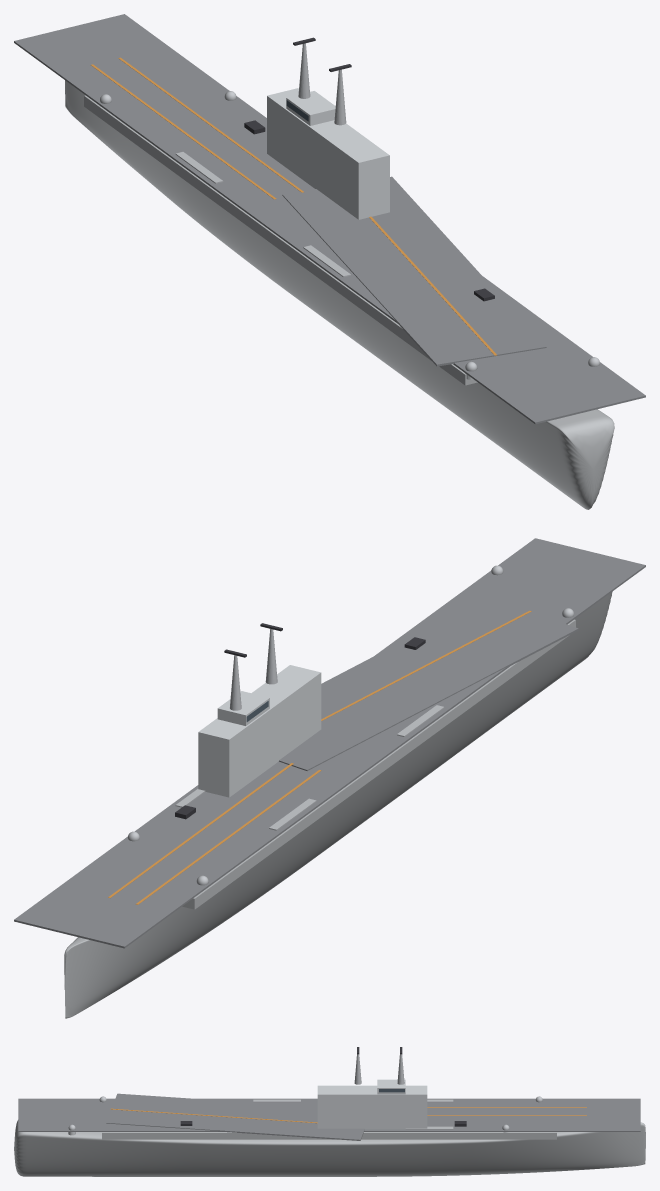
The model's file is ws-carrier-01.fbx.
3 views of the same model, one above another, from view 1: azimuth 30°, elevation 25°; view 2: azimuth 150°, elevation 25°; view 3: azimuth 270°, elevation 25° (orthographic). The views are drawn at different scales.
Parts seen in each view (by area): view 1: flight-deck, ws-carrier-01, angled-deck, island, sponson-p, island-bridge; view 2: flight-deck, ws-carrier-01, angled-deck, island, sponson-p, island-bridge; view 3: ws-carrier-01, flight-deck, angled-deck, island, sponson-s, island-bridge, landing-line.
Boxes of the visible parts, left/top/right/bottom form: flight-deck: left=14, top=14, right=645, bottom=424; ws-carrier-01: left=65, top=80, right=614, bottom=509; angled-deck: left=282, top=176, right=546, bottom=366; island: left=267, top=88, right=389, bottom=219; sponson-p: left=84, top=95, right=477, bottom=385; island-bridge: left=286, top=91, right=335, bottom=125; flight-deck: left=14, top=538, right=645, bottom=948; ws-carrier-01: left=64, top=591, right=612, bottom=1018; angled-deck: left=279, top=597, right=578, bottom=770; island: left=198, top=665, right=321, bottom=797; sponson-p: left=182, top=619, right=575, bottom=909; island-bridge: left=217, top=691, right=269, bottom=725; ws-carrier-01: left=14, top=1120, right=645, bottom=1176; flight-deck: left=18, top=1098, right=640, bottom=1131; angled-deck: left=106, top=1093, right=364, bottom=1140; island: left=317, top=1085, right=427, bottom=1129; sponson-s: left=102, top=1132, right=556, bottom=1139; island-bridge: left=377, top=1079, right=405, bottom=1094; landing-line: left=111, top=1108, right=317, bottom=1123.
Size of what is drawn, in the model's own units: 45.97 by 63.28 by 265.
